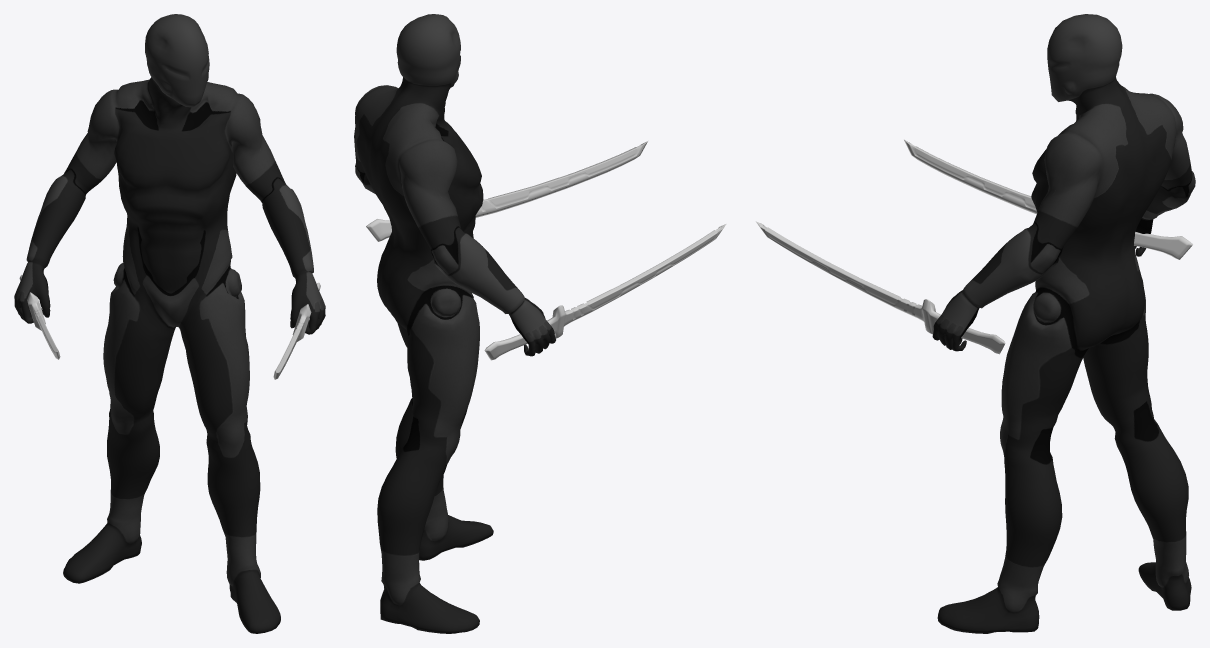
The picture shows the model from 3 angles, left to right: view 1: azimuth 30°, elevation 25°; view 2: azimuth 150°, elevation 25°; view 3: azimuth 270°, elevation 25°; orthographic projection. The views are drawn at different scales.
Parts seen in each view (by area): view 1: Cyborg_Ninja_Killer, Sword_l, Sword_l001; view 2: Cyborg_Ninja_Killer, Sword_l001, Sword_l; view 3: Cyborg_Ninja_Killer, Sword_l, Sword_l001.
Boxes of the visible parts, <box> form: Cyborg_Ninja_Killer: <box>14,14,325,633</box>; Sword_l: <box>273,282,320,379</box>; Sword_l001: <box>19,275,60,359</box>; Cyborg_Ninja_Killer: <box>354,14,555,633</box>; Sword_l001: <box>484,224,726,360</box>; Sword_l: <box>366,141,647,241</box>; Cyborg_Ninja_Killer: <box>932,14,1195,633</box>; Sword_l: <box>755,221,1005,354</box>; Sword_l001: <box>904,139,1192,259</box>.
Size of the model in its own units: 105 by 182 by 123.
